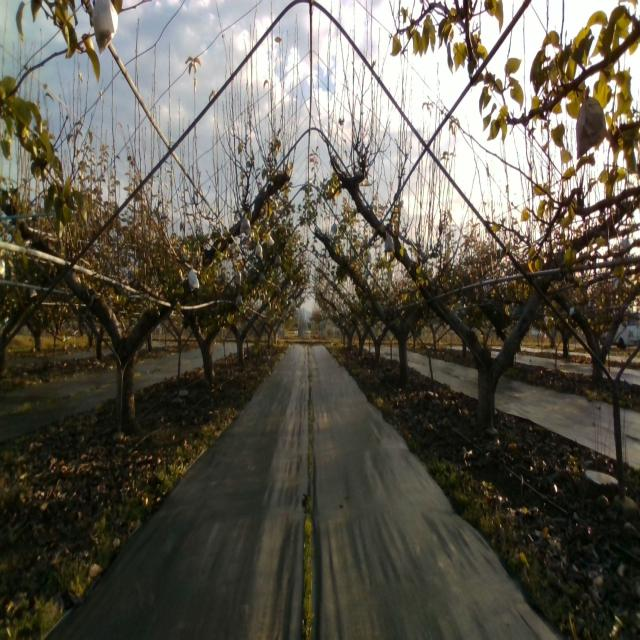pearbags: (576, 86, 608, 160), (92, 0, 117, 55), (188, 264, 200, 291), (383, 231, 395, 254), (240, 212, 251, 235)
